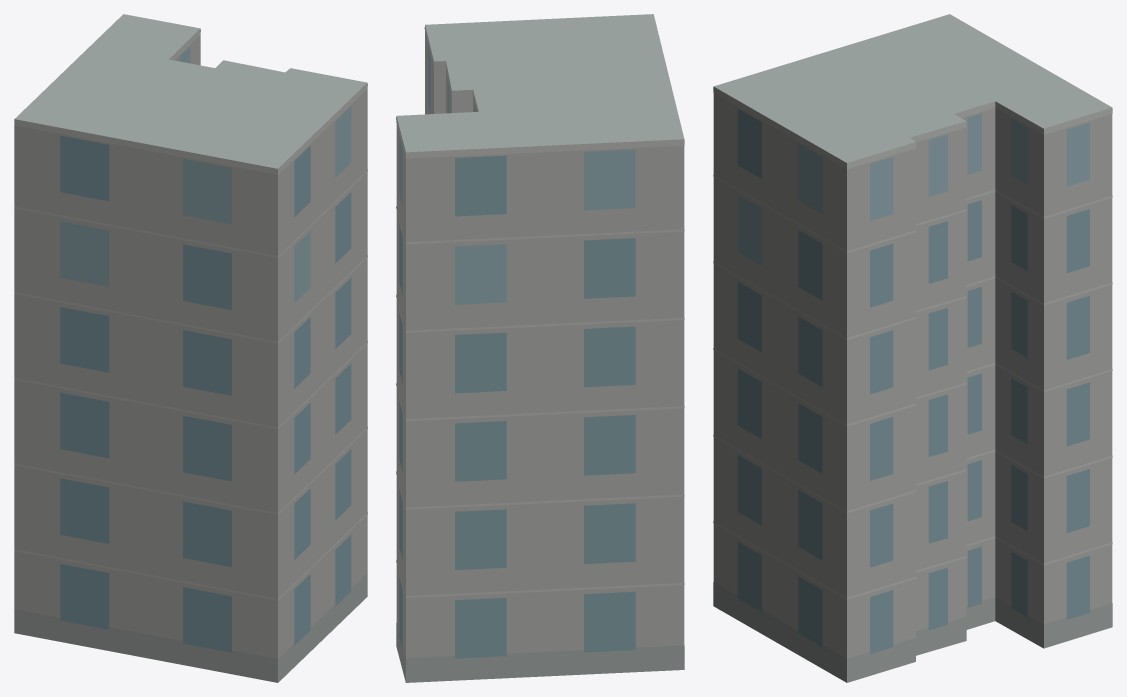
The model's file is survey-upis-33033385.glb.
The picture shows the model from 3 angles, left to right: view 1: azimuth 30°, elevation 25°; view 2: azimuth 150°, elevation 25°; view 3: azimuth 270°, elevation 25°; orthographic projection. The views are drawn at different scales.
Parts seen in each view (by area): view 1: survey-upis-33033385.tmp; view 2: survey-upis-33033385.tmp; view 3: survey-upis-33033385.tmp.
Part boxes in pixels (x1=…): survey-upis-33033385.tmp: x1=14, y1=14, x2=367, y2=682; survey-upis-33033385.tmp: x1=396, y1=14, x2=684, y2=682; survey-upis-33033385.tmp: x1=713, y1=14, x2=1112, y2=682.
Bounding box in the file's own units: 12.2 × 19.8 × 13.8.
